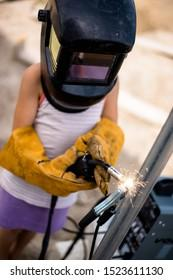gloves: (1, 127, 89, 195), (90, 118, 124, 195)
